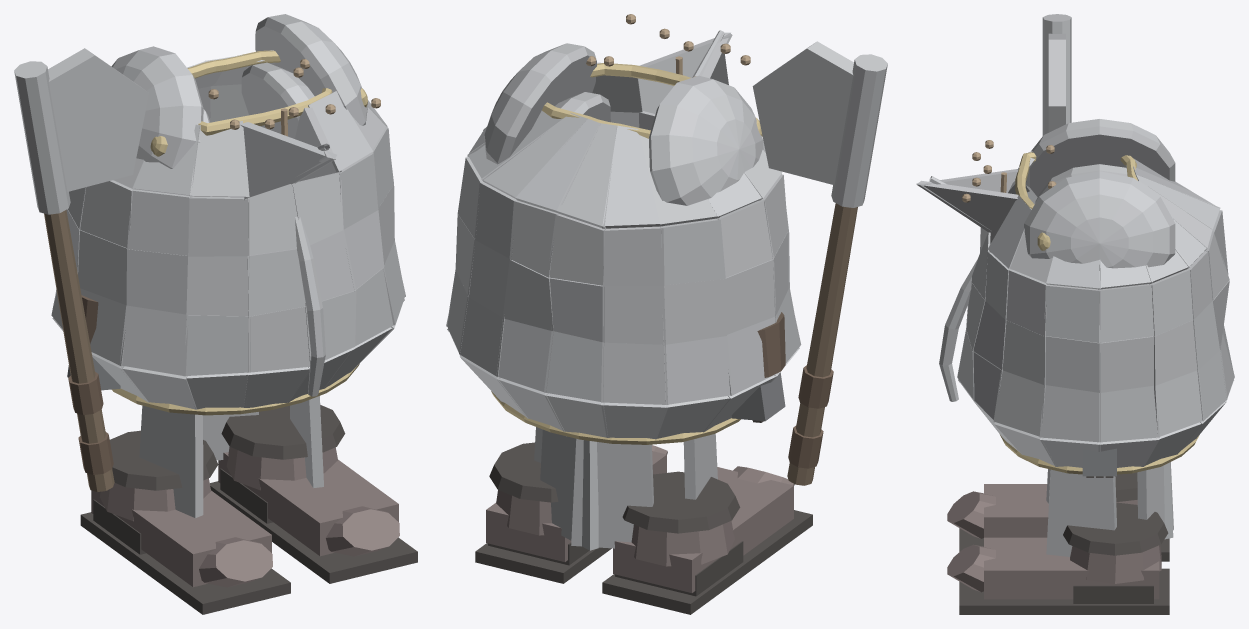
Rendered from warden_kit.glb.
The picture shows the model from 3 angles, left to right: view 1: azimuth 30°, elevation 25°; view 2: azimuth 150°, elevation 25°; view 3: azimuth 270°, elevation 25°; orthographic projection. The views are drawn at different scales.
Parts seen in each view (by area): view 1: Armour_Cuirass_metal_warden, Weapon_metal_warden, Acc_BootL_cloth_warden, Acc_BootR_cloth_warden, Acc_BootL_dark_warden, Armour_PauldronL_metal_warden, Acc_BootR_dark_warden, Armour_Tassets_metal_warden, Armour_PauldronR_metal_warden, Weapon_haft_warden, Armour_Cuirass_trim_warden, Weapon_leather_warden (+1 smaller); view 2: Armour_Cuirass_metal_warden, Weapon_metal_warden, Armour_Tassets_metal_warden, Armour_PauldronR_metal_warden, Acc_BootR_dark_warden, Acc_BootR_cloth_warden, Armour_PauldronL_metal_warden, Weapon_haft_warden, Acc_BootL_dark_warden, Acc_BootL_cloth_warden, Armour_Cuirass_trim_warden, Weapon_leather_warden (+3 smaller); view 3: Armour_Cuirass_metal_warden, Armour_PauldronL_metal_warden, Acc_BootL_cloth_warden, Acc_BootL_dark_warden, Armour_PauldronR_metal_warden, Armour_Tassets_metal_warden, Acc_BootR_cloth_warden, Weapon_metal_warden, Armour_Cuirass_trim_warden, Acc_BootR_dark_warden, Acc_GloveL_cloth_warden, Acc_Amulet_metal_warden.
Part boxes in pixels (x1,y1,x2,y2): Armour_Cuirass_metal_warden: [51, 50, 405, 409]; Weapon_metal_warden: [14, 48, 148, 214]; Acc_BootL_cloth_warden: [218, 447, 399, 556]; Acc_BootR_cloth_warden: [91, 478, 272, 587]; Acc_BootL_dark_warden: [210, 405, 417, 583]; Armour_PauldronL_metal_warden: [241, 14, 367, 138]; Acc_BootR_dark_warden: [80, 430, 290, 614]; Armour_Tassets_metal_warden: [139, 396, 323, 518]; Armour_PauldronR_metal_warden: [111, 46, 209, 168]; Weapon_haft_warden: [44, 210, 114, 491]; Armour_Cuirass_trim_warden: [112, 50, 359, 415]; Weapon_leather_warden: [68, 372, 113, 474]; Armour_Cuirass_metal_warden: [446, 30, 801, 439]; Weapon_metal_warden: [752, 41, 887, 207]; Armour_Tassets_metal_warden: [534, 427, 717, 550]; Armour_PauldronR_metal_warden: [649, 75, 763, 205]; Acc_BootR_dark_warden: [602, 471, 812, 614]; Acc_BootR_cloth_warden: [613, 466, 794, 592]; Armour_PauldronL_metal_warden: [484, 43, 610, 164]; Weapon_haft_warden: [787, 203, 857, 485]; Acc_BootL_dark_warden: [475, 442, 611, 583]; Acc_BootL_cloth_warden: [486, 445, 667, 561]; Armour_Cuirass_trim_warden: [491, 63, 740, 444]; Weapon_leather_warden: [788, 365, 833, 468]; Armour_Cuirass_metal_warden: [916, 151, 1234, 467]; Armour_PauldronL_metal_warden: [1024, 171, 1175, 268]; Acc_BootL_cloth_warden: [947, 537, 1161, 599]; Acc_BootL_dark_warden: [959, 502, 1169, 614]; Armour_PauldronR_metal_warden: [1026, 119, 1175, 202]; Armour_Tassets_metal_warden: [1046, 462, 1173, 556]; Acc_BootR_cloth_warden: [947, 484, 1137, 538]; Weapon_metal_warden: [1042, 14, 1071, 135]; Armour_Cuirass_trim_warden: [1000, 152, 1199, 474]; Acc_BootR_dark_warden: [959, 472, 1169, 561]; Acc_GloveL_cloth_warden: [1082, 448, 1116, 476]; Acc_Amulet_metal_warden: [962, 140, 1056, 202].
Bounding box in the file's own units: 1.05 × 1.38 × 0.8629.
